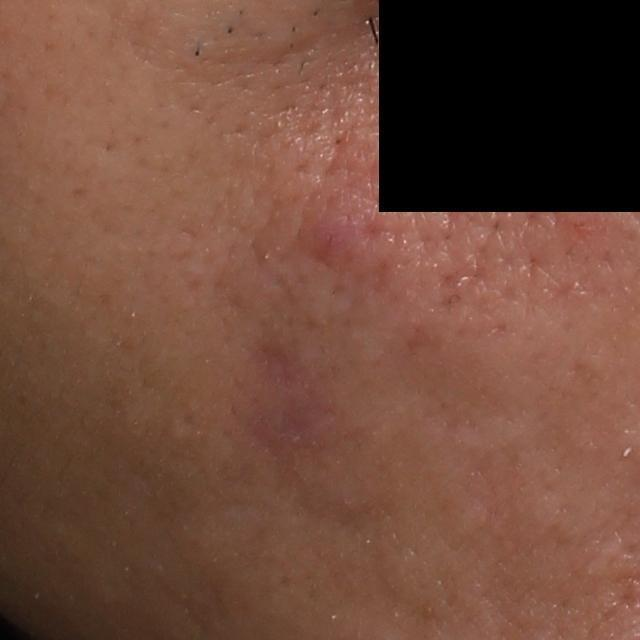papule: (297, 200, 365, 261)
